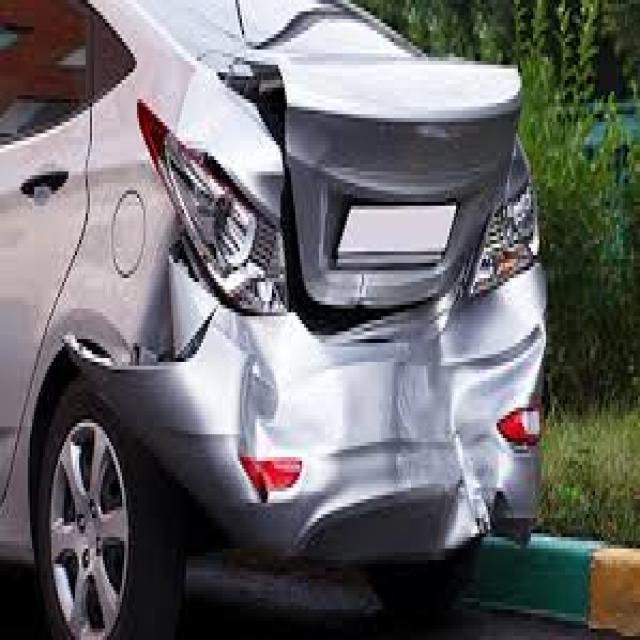moderate: (137, 40, 519, 553)
